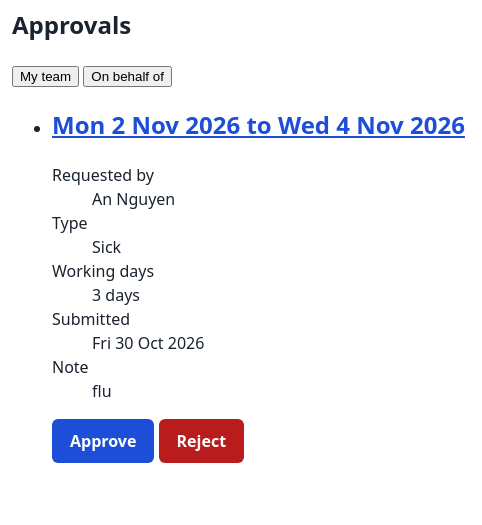
Test: approvals › shows the server message when someone decided first
Click the button "Approve".
click(103, 441)  # box 52,419 -> 154,463
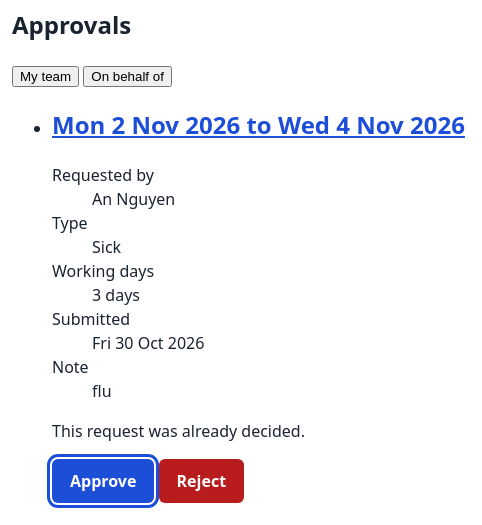
Expected: the message reads "This request was already decided.", 52,420 -> 305,442
